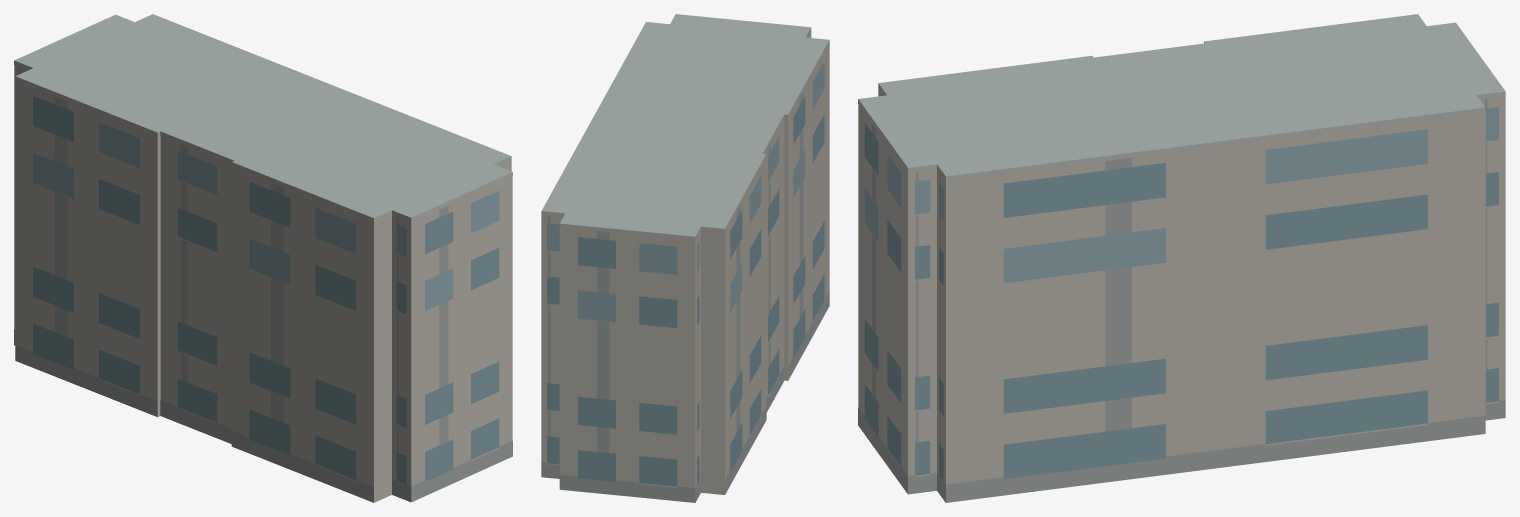
File: survey-upis-32788632.glb
The picture shows the model from 3 angles, left to right: view 1: azimuth 30°, elevation 25°; view 2: azimuth 150°, elevation 25°; view 3: azimuth 270°, elevation 25°; orthographic projection. The views are drawn at different scales.
Visible parts, largest first — view 1: survey-upis-32788632.tmp; view 2: survey-upis-32788632.tmp; view 3: survey-upis-32788632.tmp.
Boxes of the visible parts, x1=… form: survey-upis-32788632.tmp: x1=14, y1=14, x2=512, y2=502; survey-upis-32788632.tmp: x1=541, y1=14, x2=829, y2=502; survey-upis-32788632.tmp: x1=858, y1=14, x2=1505, y2=502.
Size of the model in its own units: 16.55 by 15.5 by 27.87.
